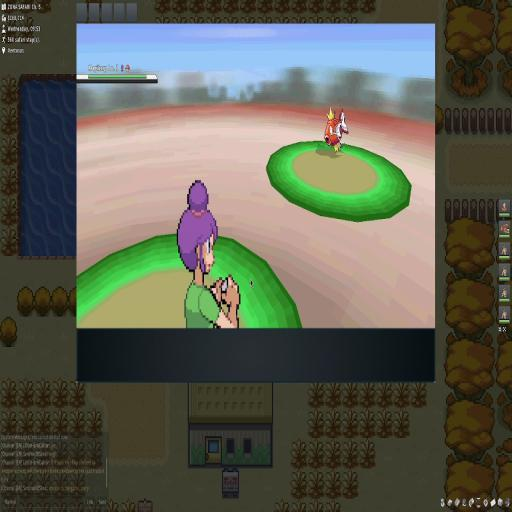MAGIKARP: (323, 106, 349, 154)
